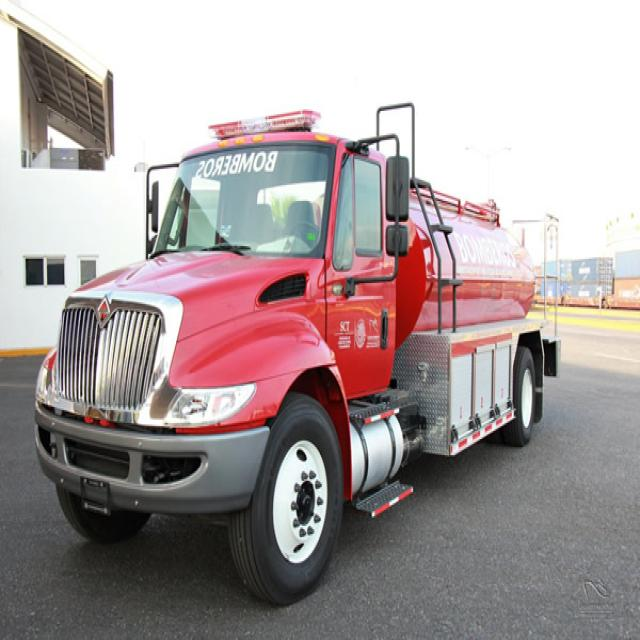pompier: (35, 108, 559, 602)
